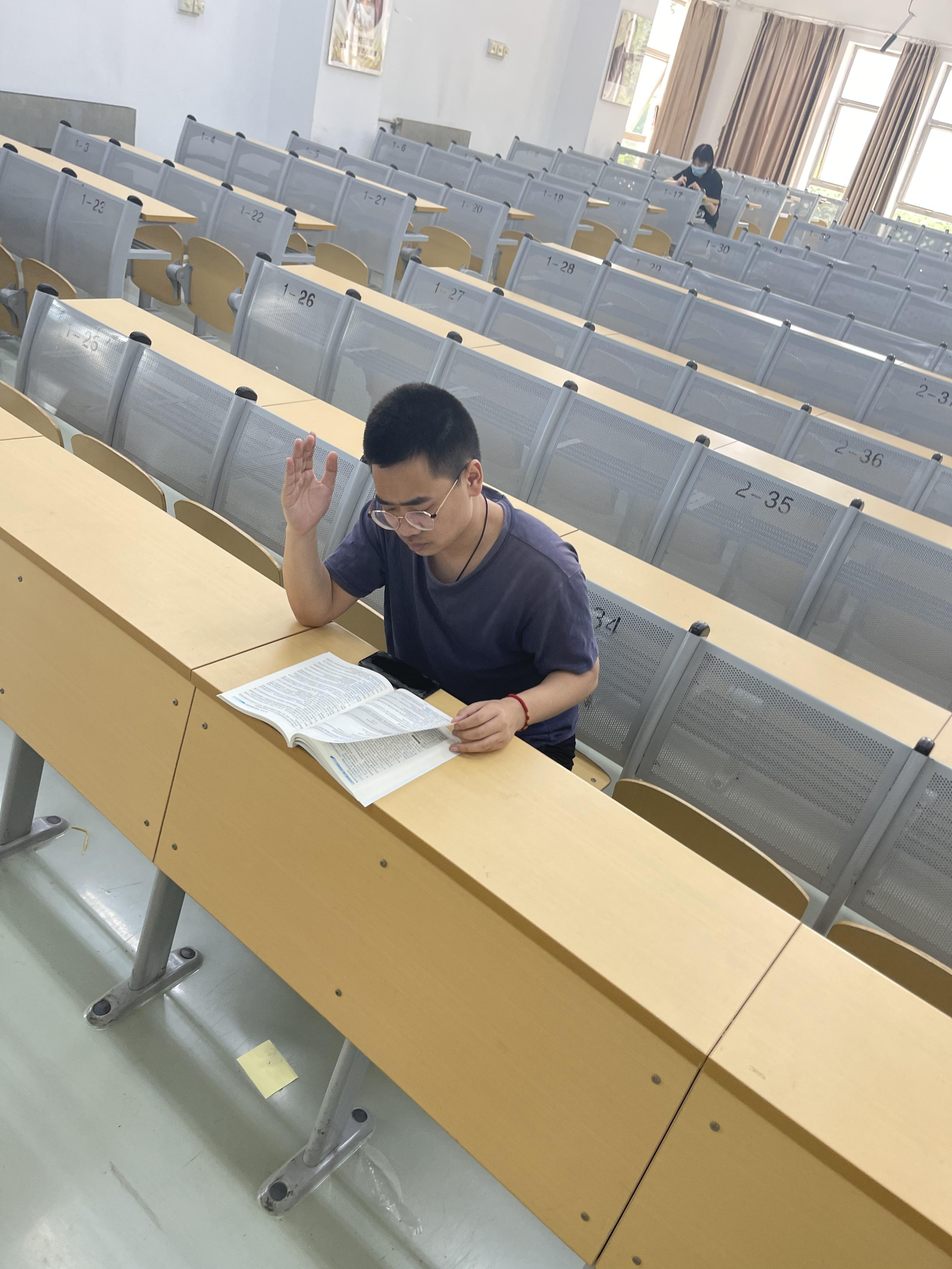study: (282, 383, 597, 751)
